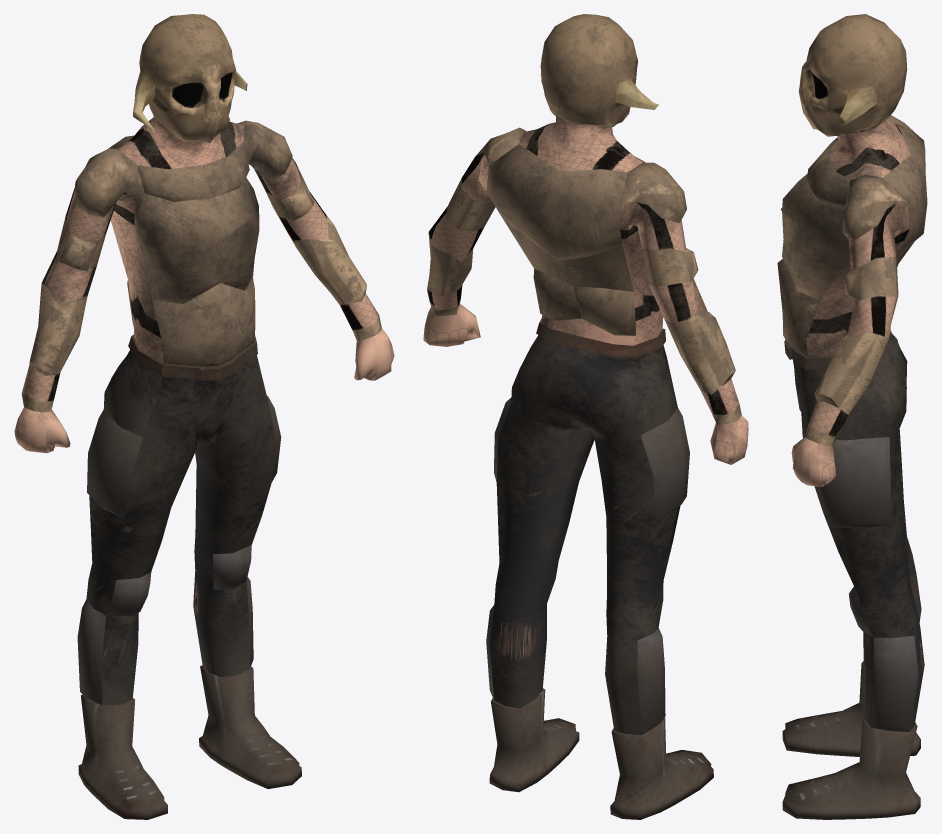
The model's file is Anim_idle_npc1.0017.obj.
The picture shows the model from 3 angles, left to right: view 1: azimuth 30°, elevation 25°; view 2: azimuth 150°, elevation 25°; view 3: azimuth 270°, elevation 25°; orthographic projection.
Parts seen in each view (by area): view 1: NPC2; view 2: NPC2; view 3: NPC2.
Part boxes in pixels (box(x1,y1,x2,y2)): NPC2: box(14, 14, 394, 819); NPC2: box(423, 14, 748, 819); NPC2: box(777, 14, 927, 819).
Size of the model in its own units: 4.63 by 9.66 by 1.73.
